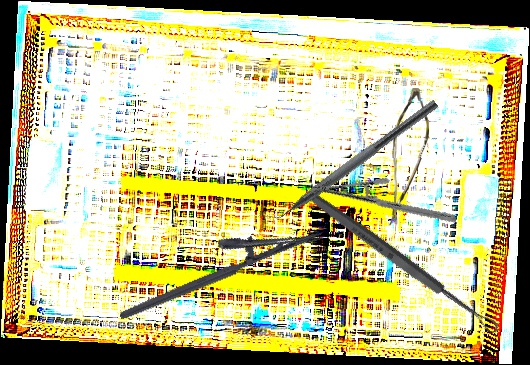Chopper: (256, 88, 440, 234)
Micro Scissor: (386, 88, 431, 228)
Needle Holder: (107, 202, 325, 322), (311, 147, 457, 260)
Surgical Spoon: (306, 189, 501, 337)
